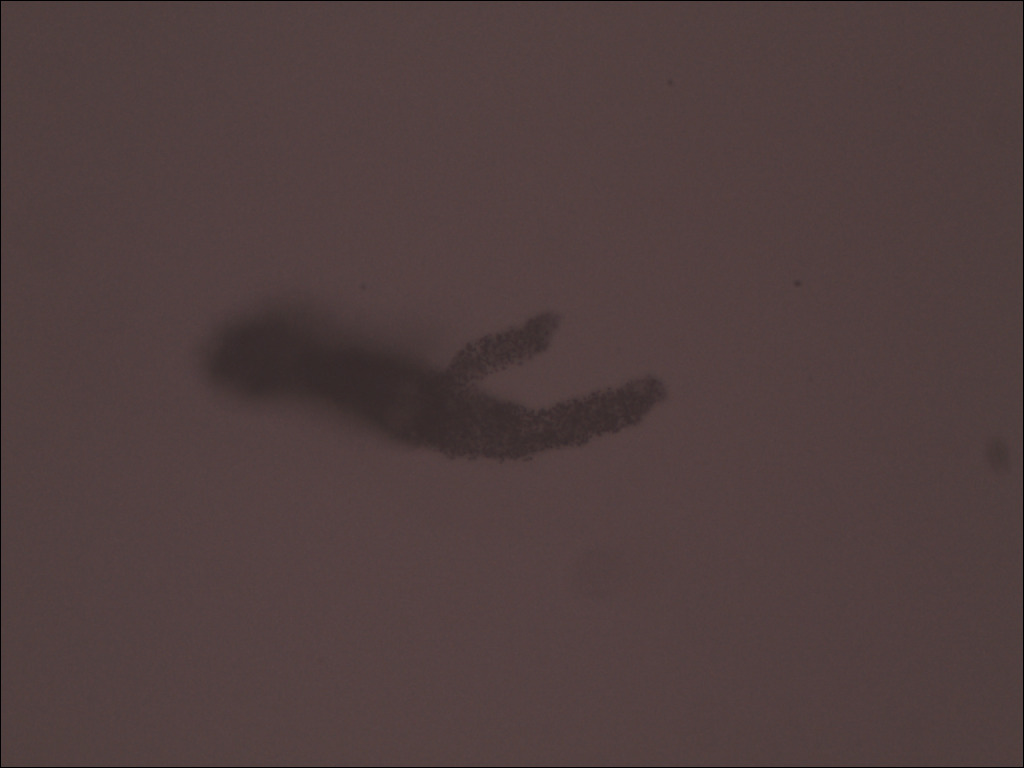amoeba: (196, 266, 685, 478)
